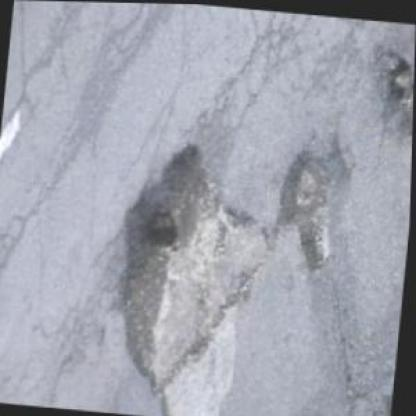pothole: (104, 132, 279, 402), (269, 139, 343, 269), (362, 40, 413, 143)
